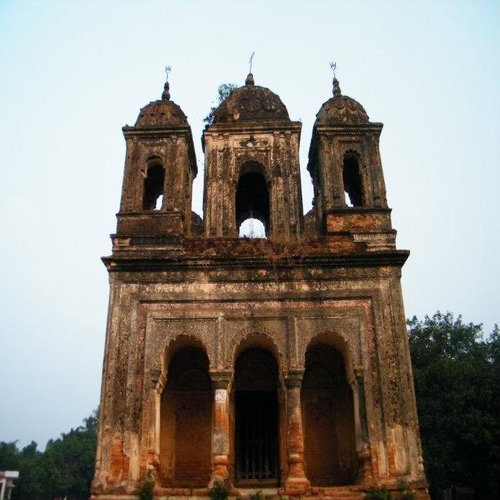Temple: (96, 63, 431, 492)
